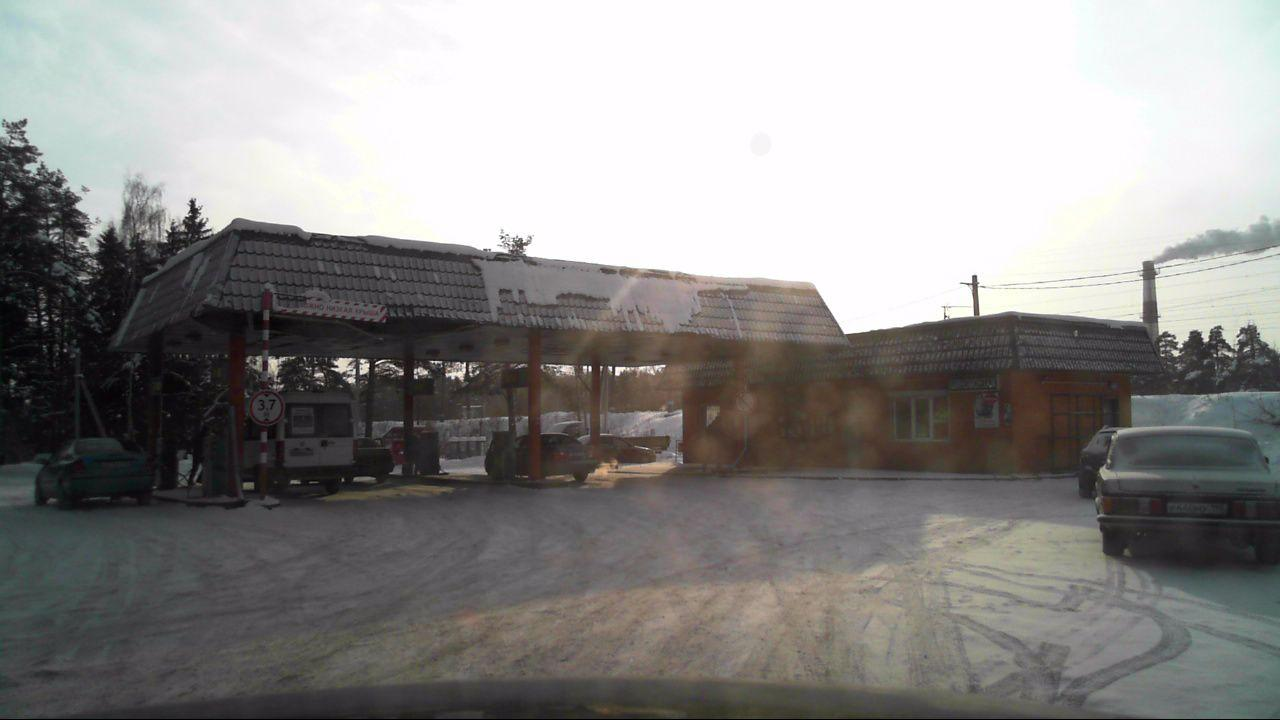3_13: (249, 388, 283, 423)
